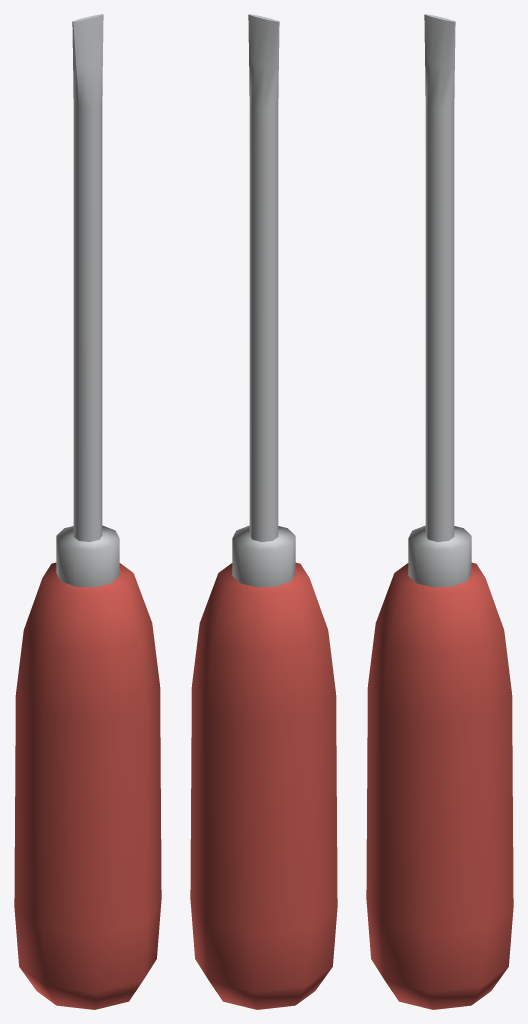
The model's file is Item_Screwdriver.fbx.
3 views of the same model, side by side, from view 1: azimuth 30°, elevation 25°; view 2: azimuth 150°, elevation 25°; view 3: azimuth 330°, elevation 25° (orthographic).
Parts seen in each view (by area): view 1: Item_Screwdriver; view 2: Item_Screwdriver; view 3: Item_Screwdriver.
Part boxes in pixels (x1,y1,x2,y2): Item_Screwdriver: [14, 14, 161, 1009]; Item_Screwdriver: [190, 14, 337, 1009]; Item_Screwdriver: [366, 14, 513, 1009].
Bounding box in the file's own units: 0.0292 × 0.228 × 0.0292.
